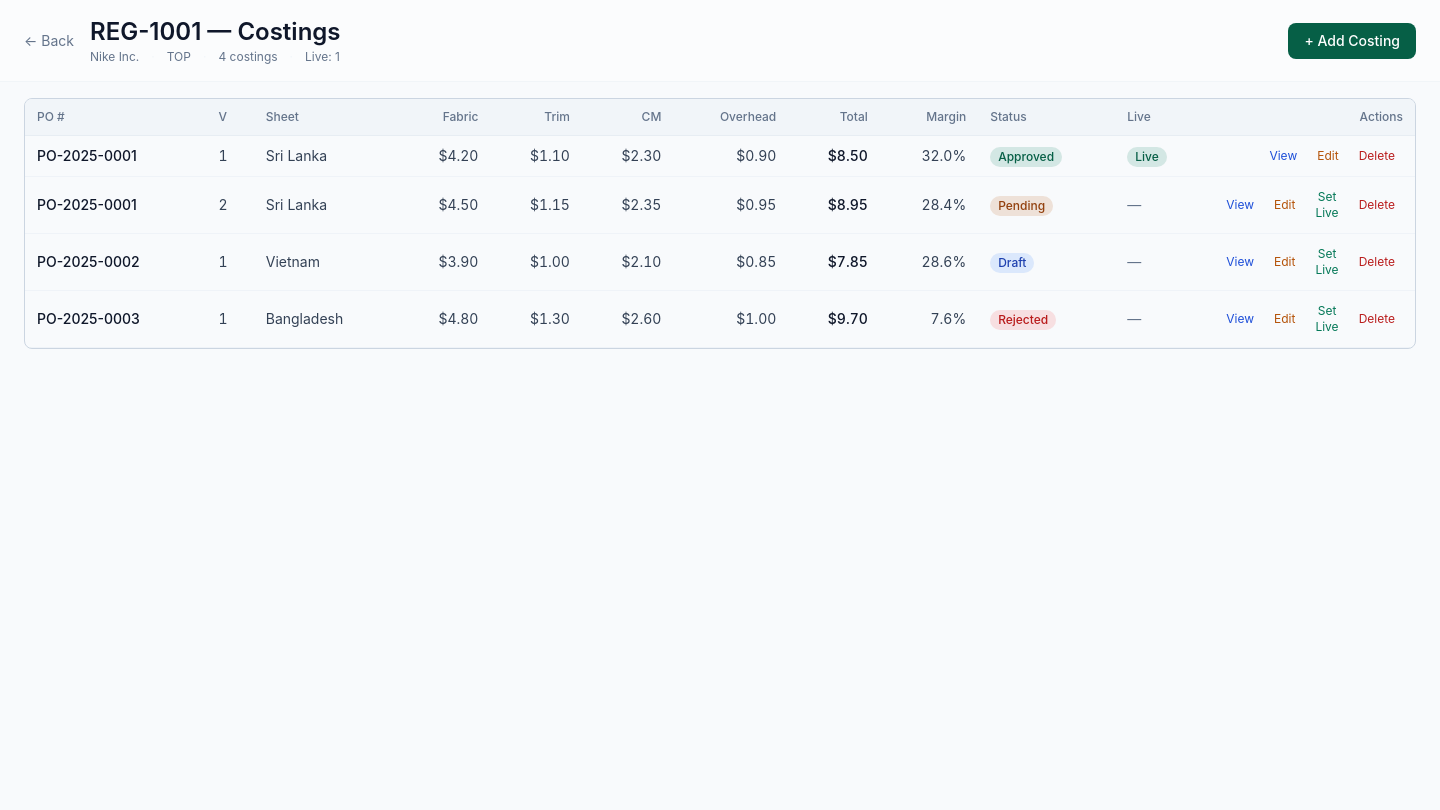
Test case: DesignCostingsPage › adds a new costing via the form modal
The image size is (1440, 810).
Expected: the text "4 costings" is shown, [218, 49, 278, 65]
Click the button "+ Add Costing" at (1352, 41), box [1288, 23, 1416, 59]
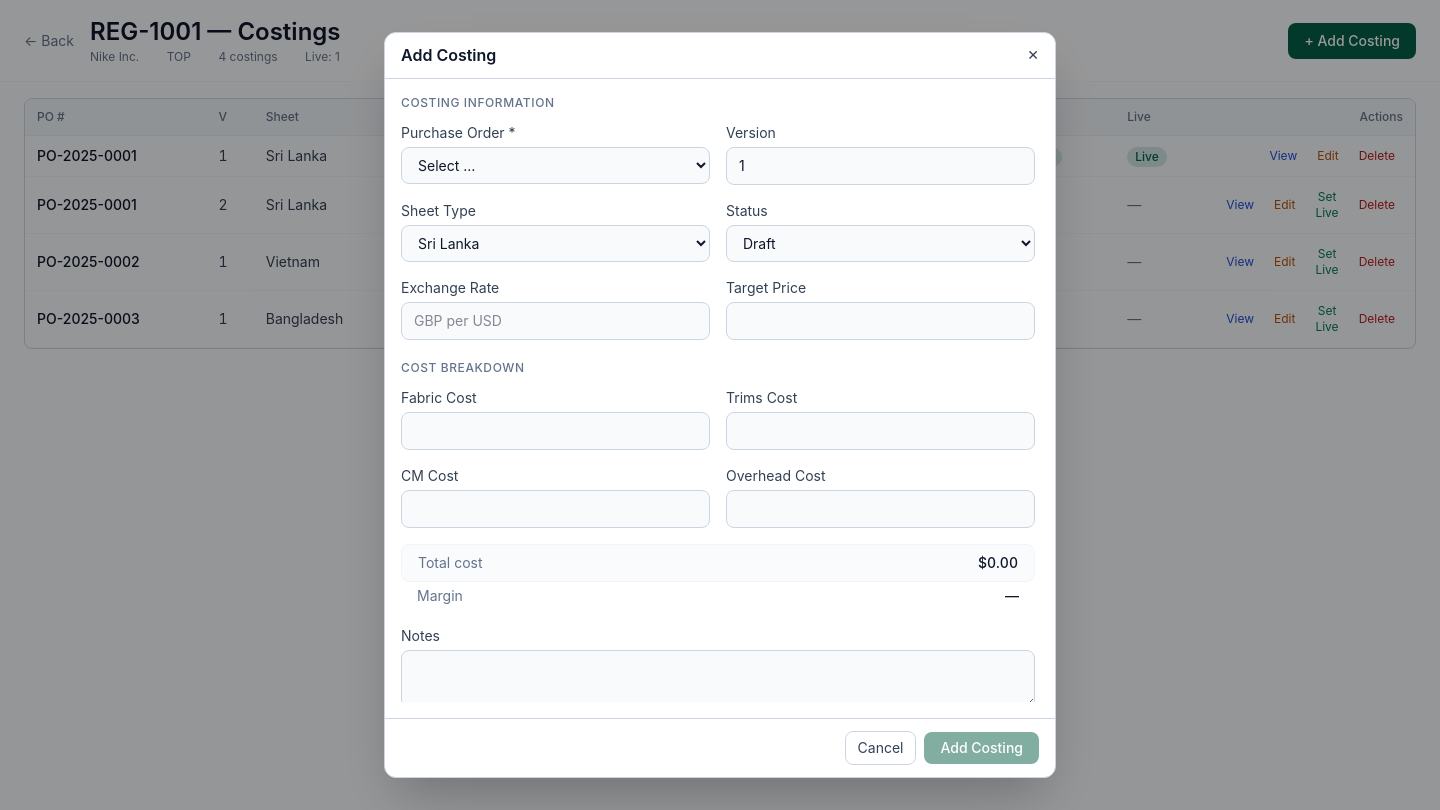
Select "PO-2025-0003" in the dropdown labelled "Purchase Order *" at (556, 165), box [401, 147, 710, 184]
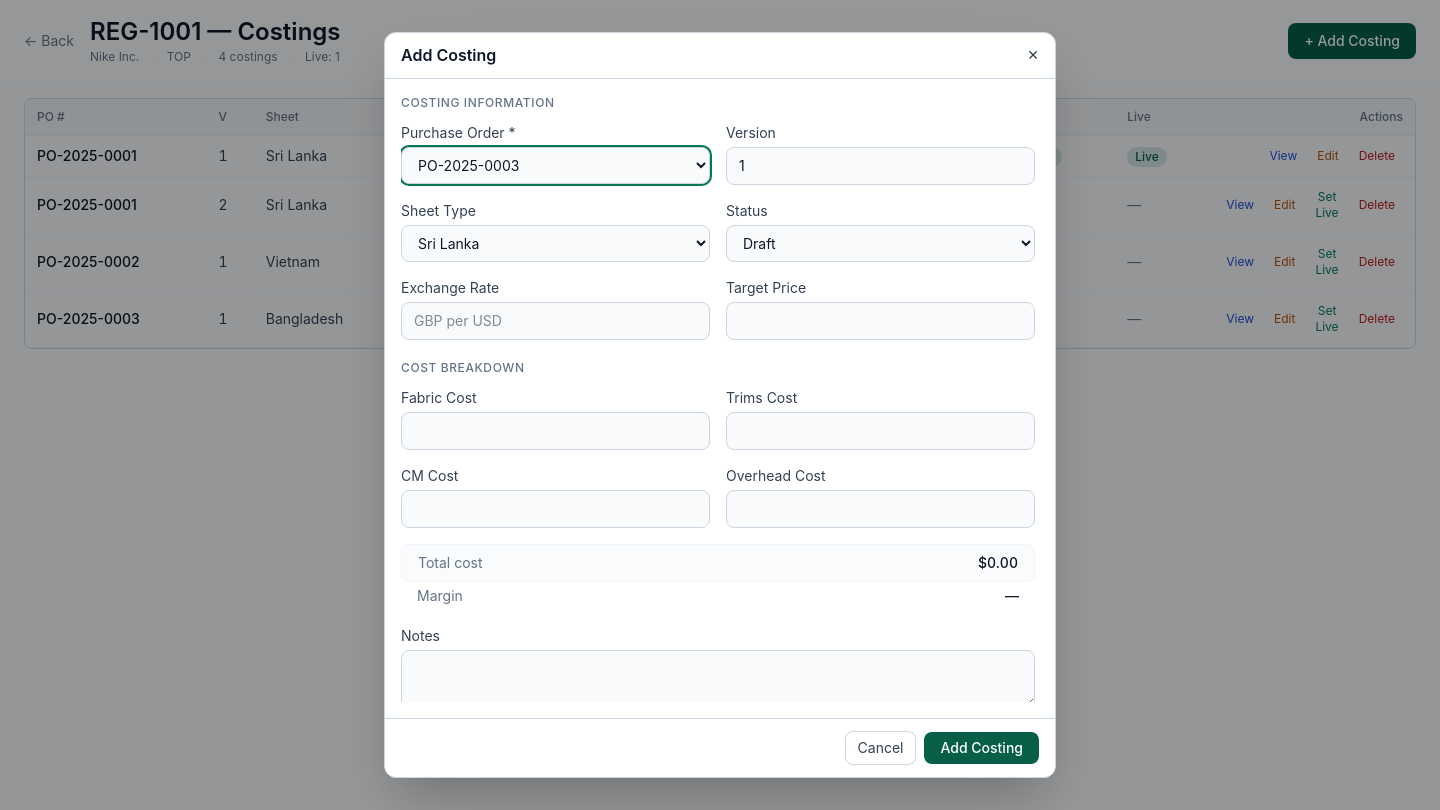
Type "6.66" into the number field labelled "Fabric Cost" at (556, 431), box [401, 412, 710, 450]
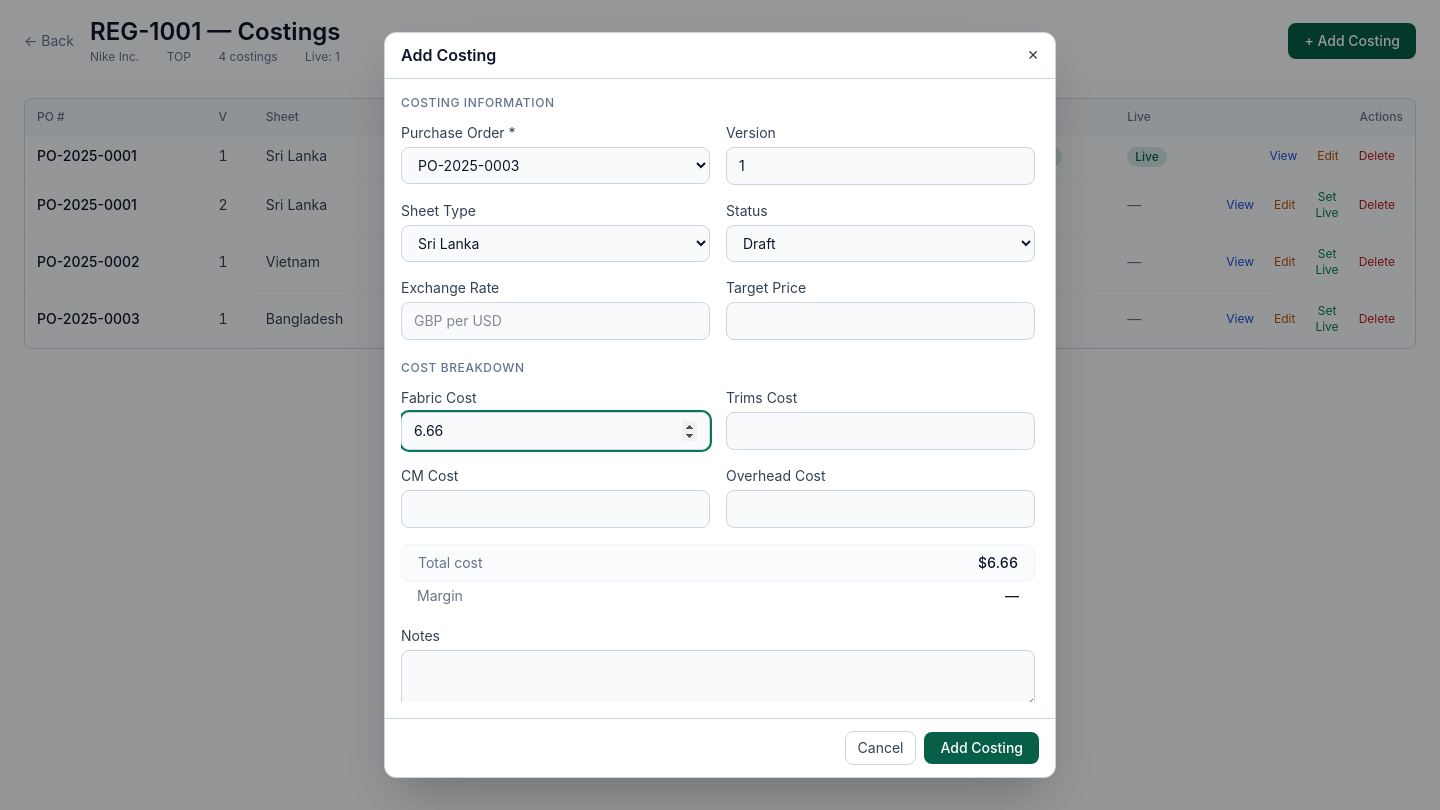
Type "1.00" into the number field labelled "Trims Cost" at (880, 431), box [726, 412, 1035, 450]
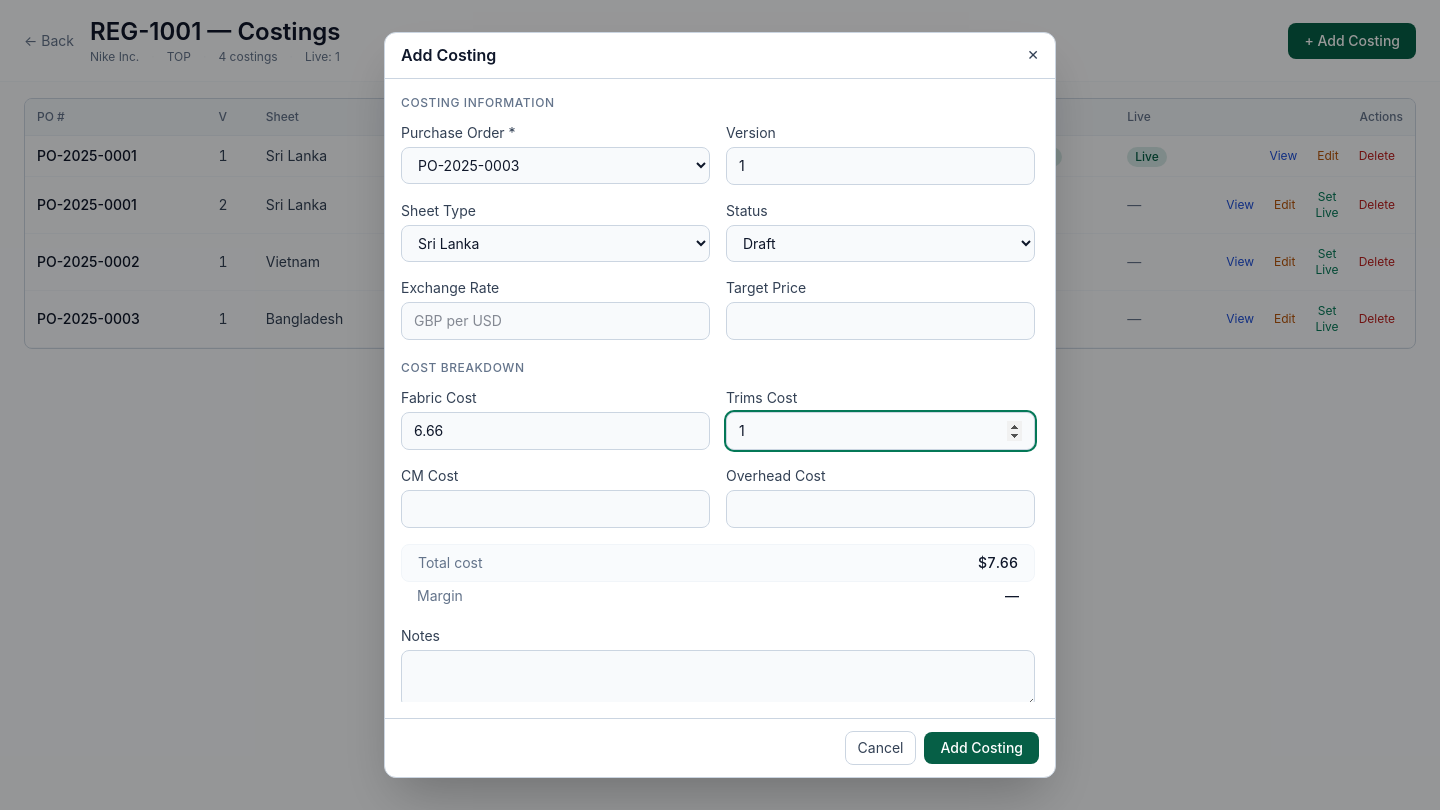
Click the button "Add Costing" at (982, 748), box [924, 732, 1039, 764]
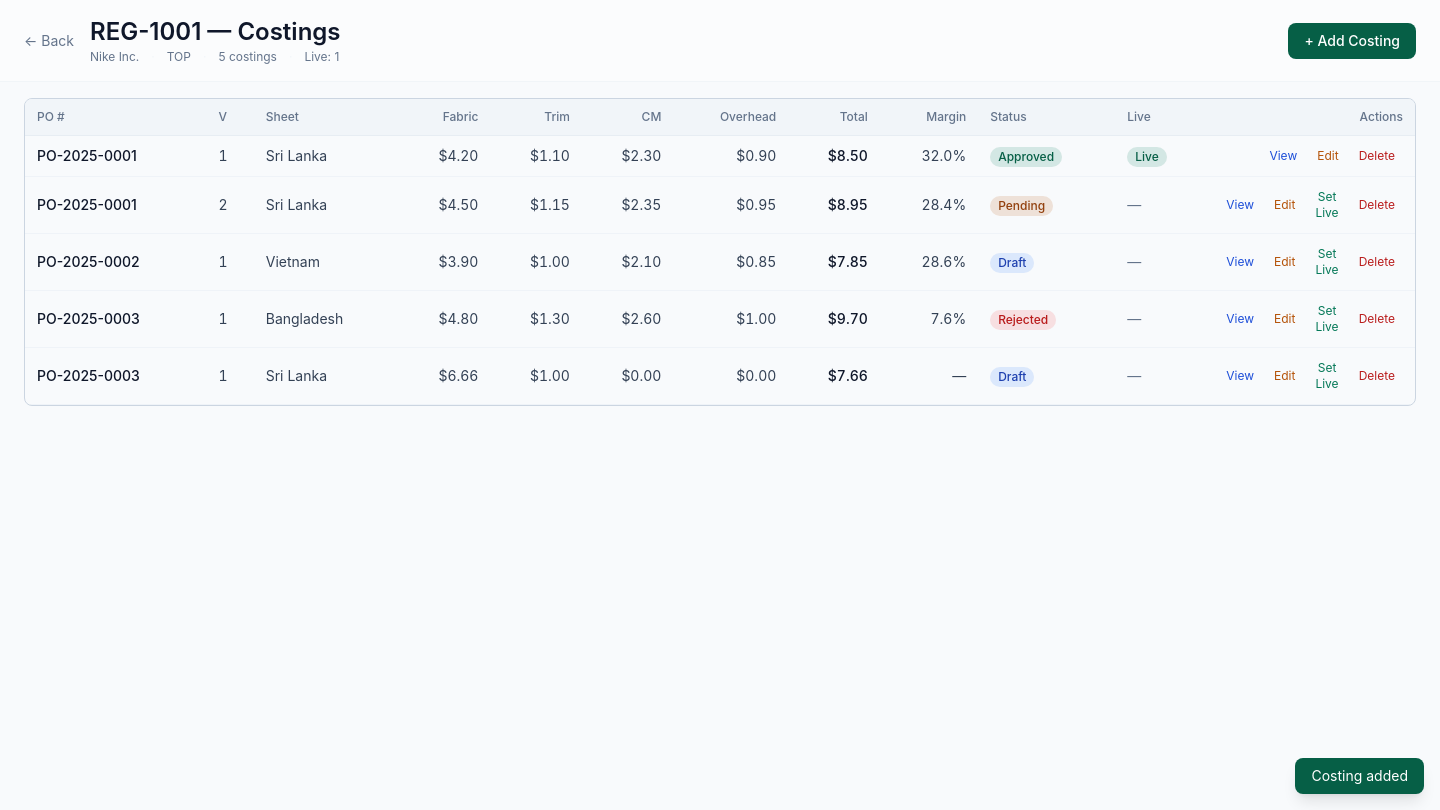
Expected: the text "$7.66" is shown, [788, 348, 880, 405]
Expected: the number of buttons "View" is 5, [1261, 144, 1305, 168]; [1218, 193, 1262, 217]; [1218, 250, 1262, 274]; [1218, 307, 1262, 331]; [1218, 364, 1262, 388]
